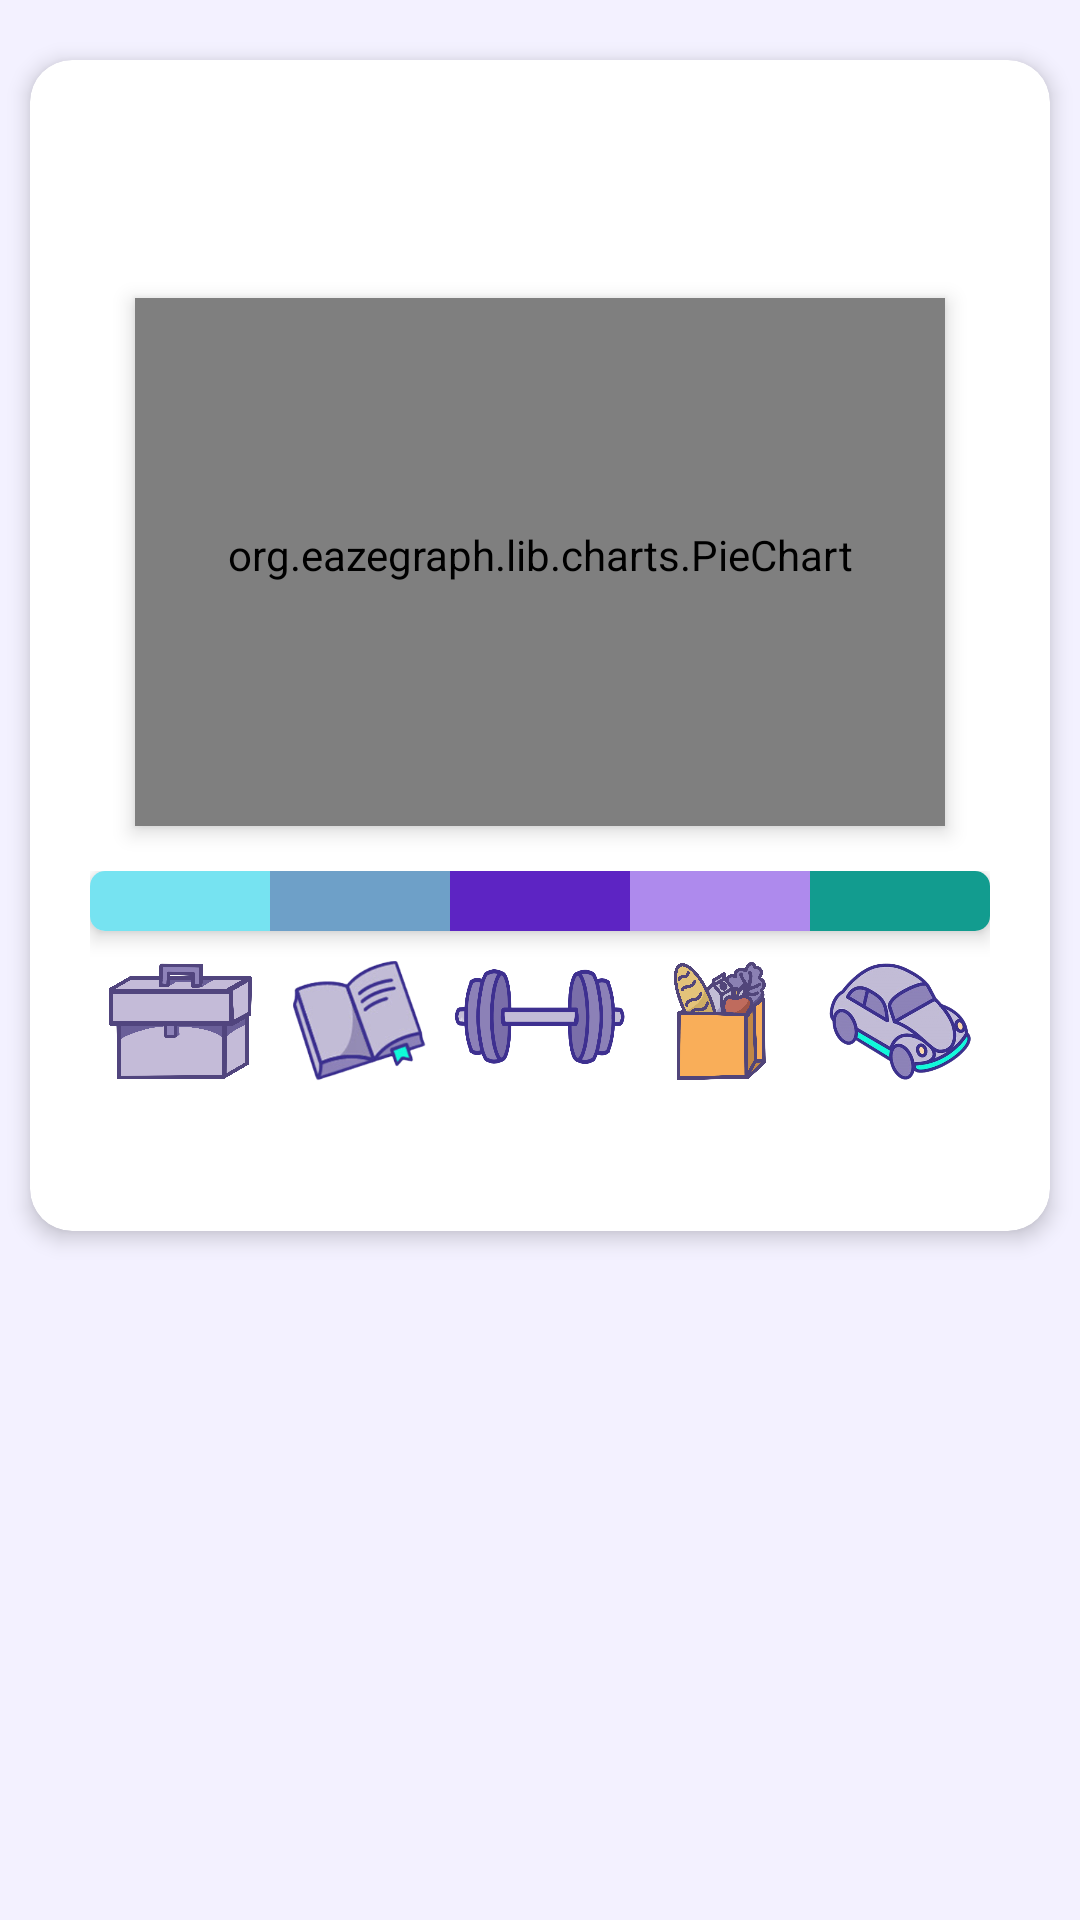

Where to tap for icons on this 1080 x 1920 app screen, as (x=x, y=y):
arbeit: (x=180, y=1021)
auto: (x=900, y=1021)
einkauf: (x=720, y=1021)
sport: (x=540, y=1016)
uni: (x=359, y=1020)
